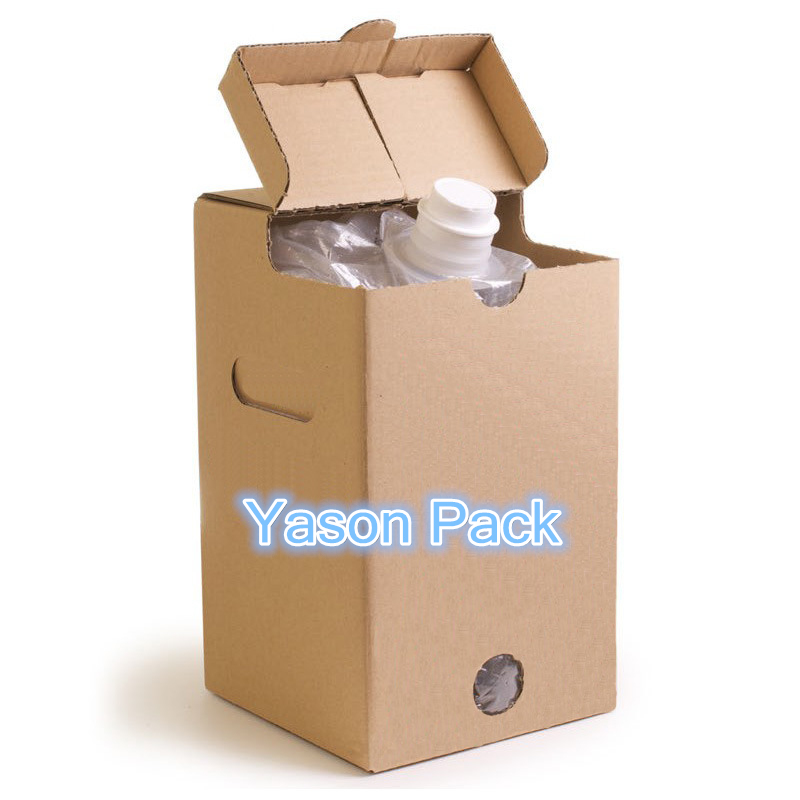Rec_Paper: (172, 21, 631, 775)
